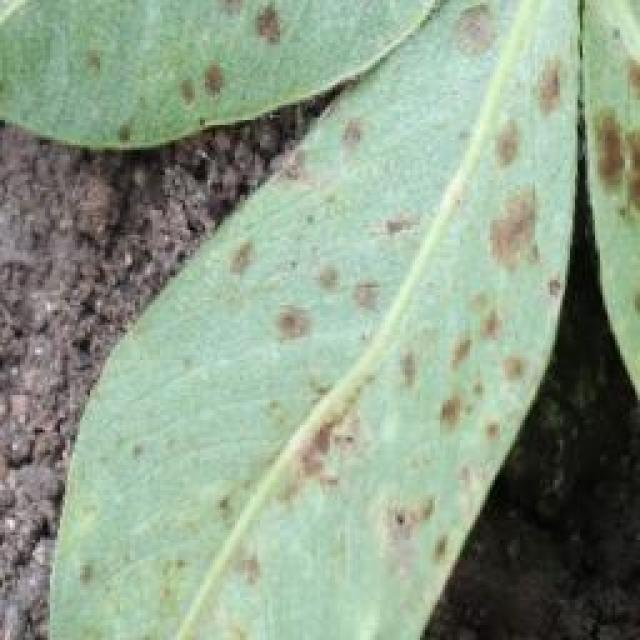Whitefly: (63, 0, 640, 574)
